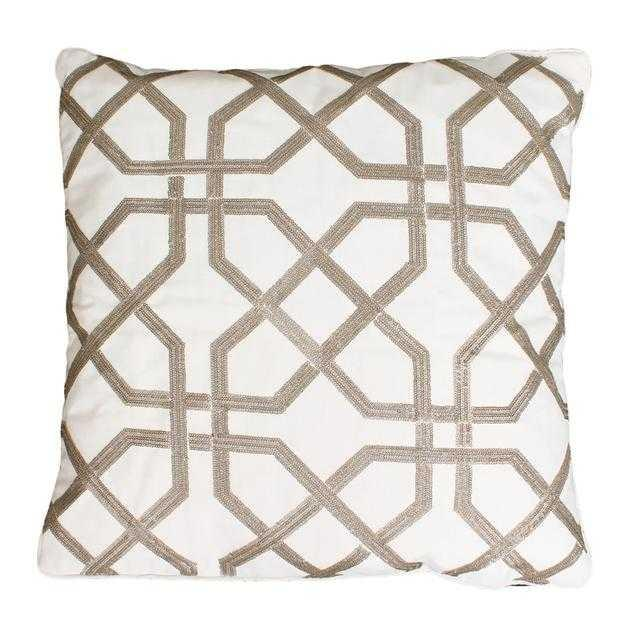pillow: (36, 44, 592, 586)
